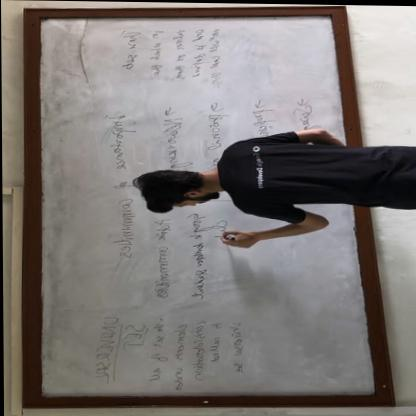Handwritten text: (99, 110, 142, 263), (179, 208, 225, 297), (147, 217, 174, 301), (88, 315, 119, 385), (154, 116, 193, 169), (198, 110, 231, 170), (112, 29, 146, 73), (144, 323, 168, 383), (204, 22, 225, 89), (168, 318, 187, 392), (227, 320, 253, 374), (187, 320, 208, 385), (145, 24, 167, 82), (168, 24, 188, 83), (243, 106, 273, 139), (284, 103, 318, 132), (187, 27, 205, 79), (116, 322, 145, 353), (209, 321, 224, 365)
Lecturer: (130, 117, 403, 236)
Whiteboard: (30, 10, 379, 400)
